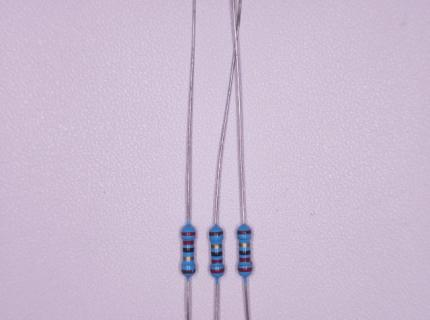Black band: (239, 249, 250, 255), (182, 248, 194, 253), (211, 251, 223, 256)
Brown band: (209, 231, 223, 236), (237, 230, 251, 235), (182, 269, 196, 273)
Gold band: (211, 244, 221, 249), (183, 257, 194, 261), (239, 243, 250, 247)
Red band: (238, 266, 253, 272), (210, 268, 224, 274), (239, 257, 251, 262), (183, 240, 194, 245), (211, 259, 222, 263), (181, 232, 195, 235)
